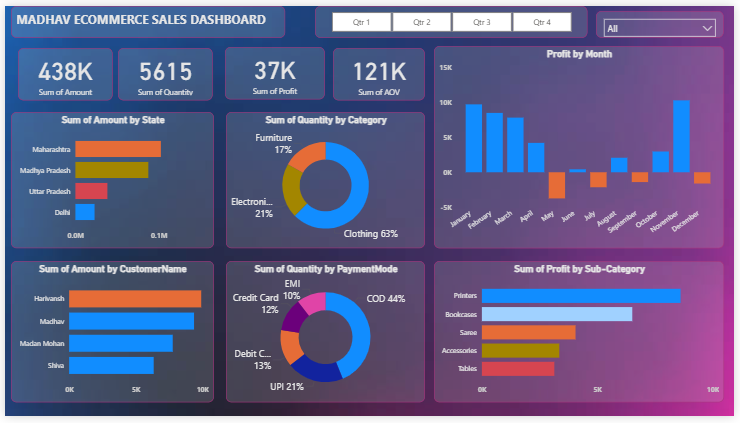

What the dashboard file says about the page in this screenshot:
{"tool":"powerbi","page":{"name":"Page 1","canvas":[1280,720],"ordinal":0},"visuals":[{"type":"textbox","box":[10.2,0,481.5,55.9],"z":0},{"type":"columnChart","title":"Profit by Month","fields":{"Category":["Orders.Order Date.Variation.Date Hierarchy.Month"],"Y":["Sum(Details.Profit)"]},"box":[753,69.3,508.9,355],"z":1000},{"type":"clusteredBarChart","fields":{"Category":["Details.Sub-Category"],"Y":["Sum(Details.Profit)"]},"box":[753,446.5,508.9,248.2],"z":2000},{"type":"donutChart","fields":{"Category":["Details.Category"],"Y":["Sum(Details.Quantity)"]},"box":[386.9,185.8,349.5,238.5],"z":2001},{"type":"donutChart","fields":{"Y":["Sum(Details.Quantity)"],"Category":["Details.PaymentMode"]},"box":[386.9,446.5,349.5,248.2],"z":2002},{"type":"card","fields":{"Values":["Sum(Details.Amount)"]},"box":[22,72.9,166.1,91.5],"z":2003},{"type":"card","fields":{"Values":["Sum(Details.Quantity)"]},"box":[198.4,72.9,166.1,91.5],"z":2004},{"type":"card","fields":{"Values":["Sum(Details.Profit)"]},"box":[386.5,71.2,174.6,91.5],"z":2005},{"type":"card","fields":{"Values":["Sum(Details.AOV)"]},"box":[574.7,72.9,161.1,91.5],"z":2006},{"type":"clusteredBarChart","fields":{"Category":["Orders.State"],"Y":["Sum(Details.Amount)"]},"box":[9.7,185.8,356.4,238.5],"z":2007},{"type":"barChart","fields":{"Category":["Orders.CustomerName"],"Y":["Sum(Details.Amount)"]},"box":[10,447,356,248],"z":2008},{"type":"slicer","fields":{"Values":["Orders.Order Date.Variation.Date Hierarchy.Quarter"]},"box":[544.2,0,478.1,55.9],"z":2009},{"type":"slicer","fields":{"Values":["Orders.State"]},"box":[1037.6,8.5,223.8,47.5],"z":2010}]}

Visuals, with their boxes in screenshot pixels (x1, y1, x2, y2), scaled from the page's 1280x720 canvas onto the 740x423 screenshot:
textbox: locate(6, 0, 284, 33)
"Profit by Month" columnChart: locate(435, 41, 730, 249)
clusteredBarChart - Details.Sub-Category x Sum(Details.Profit): locate(435, 262, 730, 408)
donutChart - Details.Category x Sum(Details.Quantity): locate(224, 109, 426, 249)
donutChart - Sum(Details.Quantity) x Details.PaymentMode: locate(224, 262, 426, 408)
card - Sum(Details.Amount): locate(13, 43, 109, 97)
card - Sum(Details.Quantity): locate(115, 43, 211, 97)
card - Sum(Details.Profit): locate(223, 42, 324, 96)
card - Sum(Details.AOV): locate(332, 43, 425, 97)
clusteredBarChart - Orders.State x Sum(Details.Amount): locate(6, 109, 212, 249)
barChart - Orders.CustomerName x Sum(Details.Amount): locate(6, 263, 212, 408)
slicer - Orders.Order Date.Variation.Date Hierarchy.Quarter: locate(315, 0, 591, 33)
slicer - Orders.State: locate(600, 5, 729, 33)
